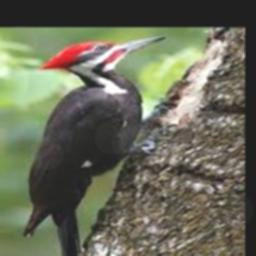Woodpecker: (24, 35, 168, 256)
